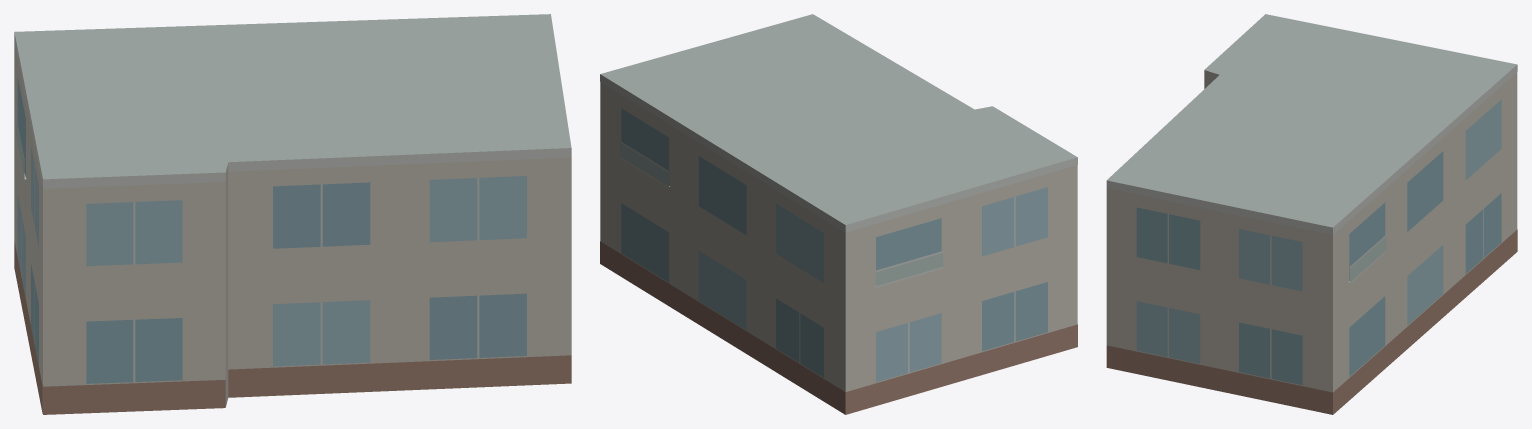
Rendered from survey-upis-32678416.glb.
The picture shows the model from 3 angles, left to right: view 1: azimuth 30°, elevation 25°; view 2: azimuth 150°, elevation 25°; view 3: azimuth 270°, elevation 25°; orthographic projection. The views are drawn at different scales.
Parts seen in each view (by area): view 1: survey-upis-32678416.tmp; view 2: survey-upis-32678416.tmp; view 3: survey-upis-32678416.tmp.
Boxes of the visible parts, <box> form: survey-upis-32678416.tmp: <box>14,14,571,414</box>; survey-upis-32678416.tmp: <box>600,14,1077,414</box>; survey-upis-32678416.tmp: <box>1106,14,1517,414</box>.
Size of the model in its own units: 14.93 by 6.1 by 12.14.
